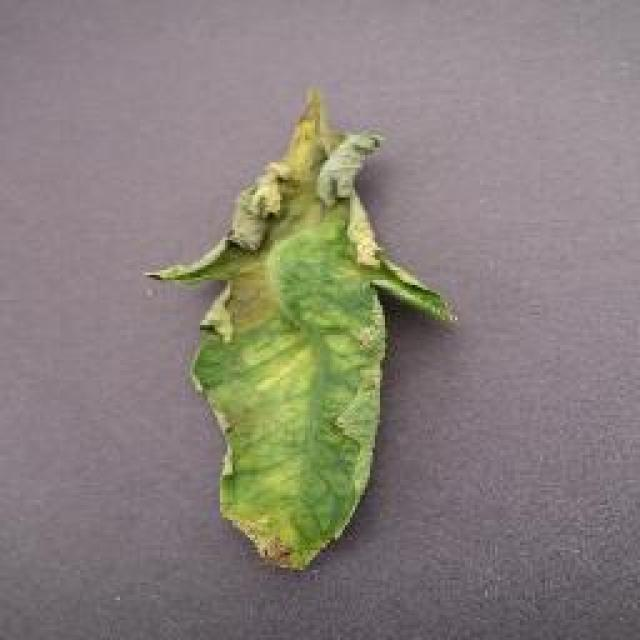Tomato Late Blight: (178, 173, 414, 570)
